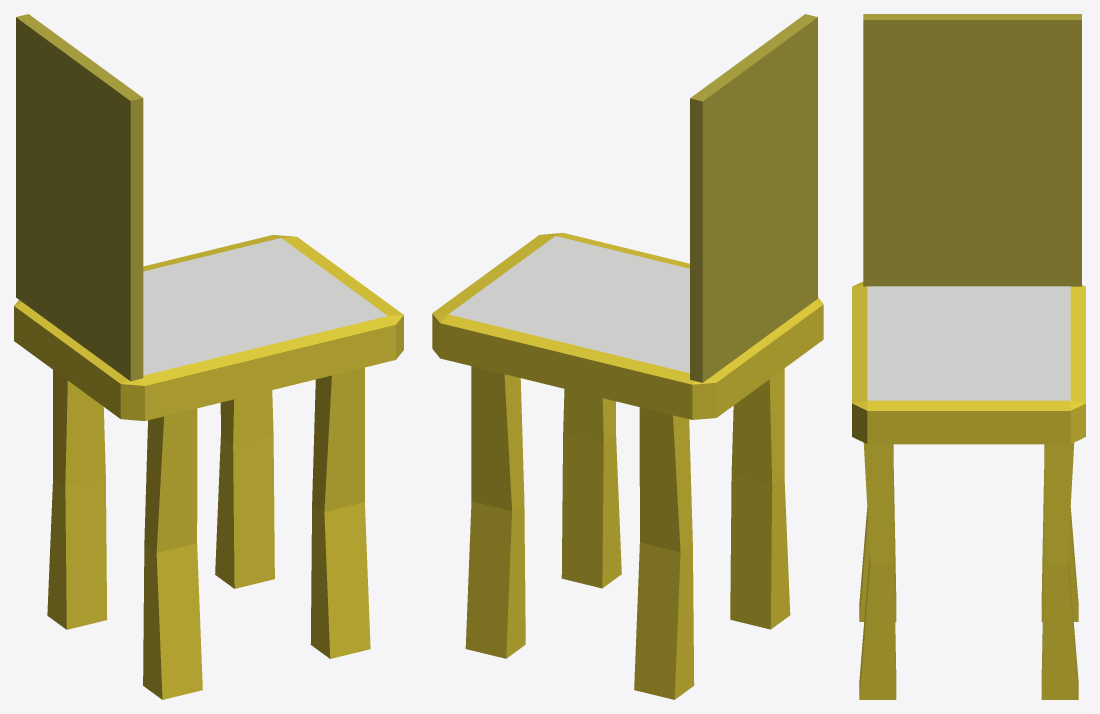
The model's file is KursiWNMDjadi.fbx.
The picture shows the model from 3 angles, left to right: view 1: azimuth 30°, elevation 25°; view 2: azimuth 150°, elevation 25°; view 3: azimuth 270°, elevation 25°; orthographic projection. The views are drawn at different scales.
Parts seen in each view (by area): view 1: Cube, Cube.001; view 2: Cube, Cube.001; view 3: Cube.001, Cube.
Part boxes in pixels (box(x1,y1,x2,y2)): Cube: box(14, 235, 403, 699); Cube.001: box(16, 14, 143, 381); Cube: box(432, 233, 823, 699); Cube.001: box(690, 14, 817, 382); Cube.001: box(863, 14, 1081, 286); Cube: box(852, 281, 1085, 699).
Size of the model in its own units: 112 by 229 by 84.43.
